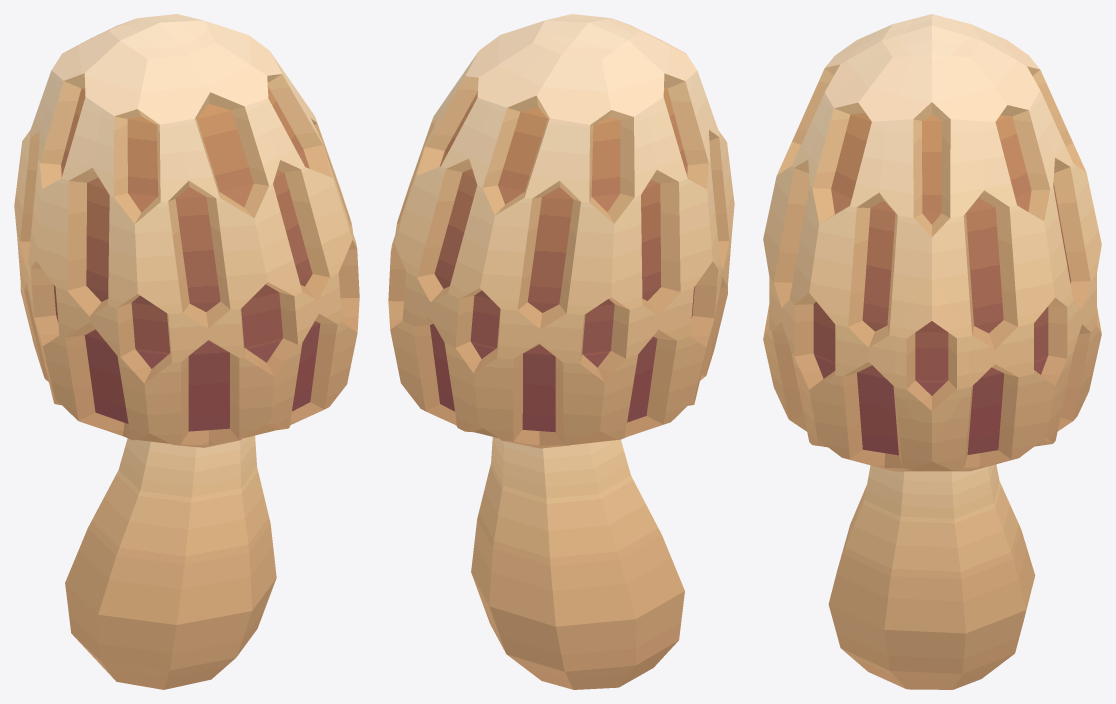
File: Morel_Small.glb
The picture shows the model from 3 angles, left to right: view 1: azimuth 30°, elevation 25°; view 2: azimuth 150°, elevation 25°; view 3: azimuth 270°, elevation 25°; orthographic projection.
Parts seen in each view (by area): view 1: Cube.001; view 2: Cube.001; view 3: Cube.001.
Part boxes in pixels (bbox=[...]): Cube.001: bbox=[14, 14, 359, 689]; Cube.001: bbox=[388, 14, 734, 689]; Cube.001: bbox=[763, 14, 1101, 689].
Bounding box in the file's own units: 3.07 × 6.23 × 2.92.
Materials: 1 (1 with a texture image).
